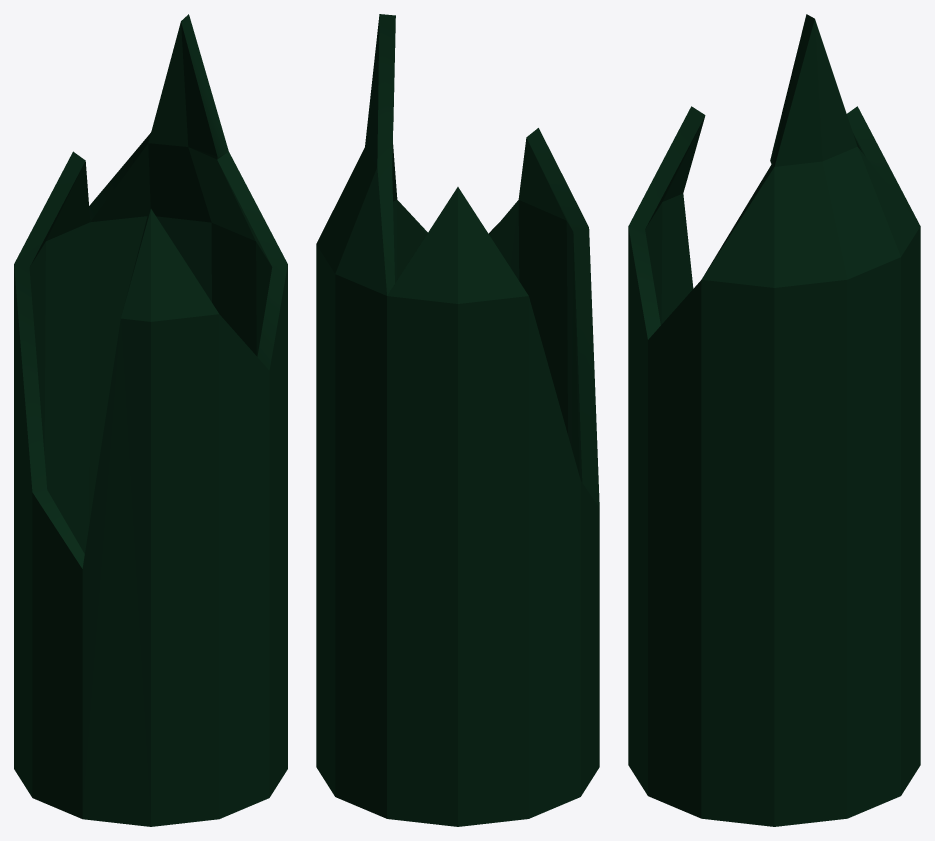
The model's file is bottle2broken1.fbx.
3 views of the same model, side by side, from view 1: azimuth 30°, elevation 25°; view 2: azimuth 150°, elevation 25°; view 3: azimuth 270°, elevation 25° (orthographic). The views are drawn at different scales.
Parts seen in each view (by area): view 1: bottle2_broken1; view 2: bottle2_broken1; view 3: bottle2_broken1.
Boxes of the visible parts, x1,y1,x2,y2 form: bottle2_broken1: (14, 14, 287, 826); bottle2_broken1: (316, 14, 599, 826); bottle2_broken1: (628, 14, 920, 826).
Bounding box in the file's own units: 8.59 × 25.17 × 8.59.
